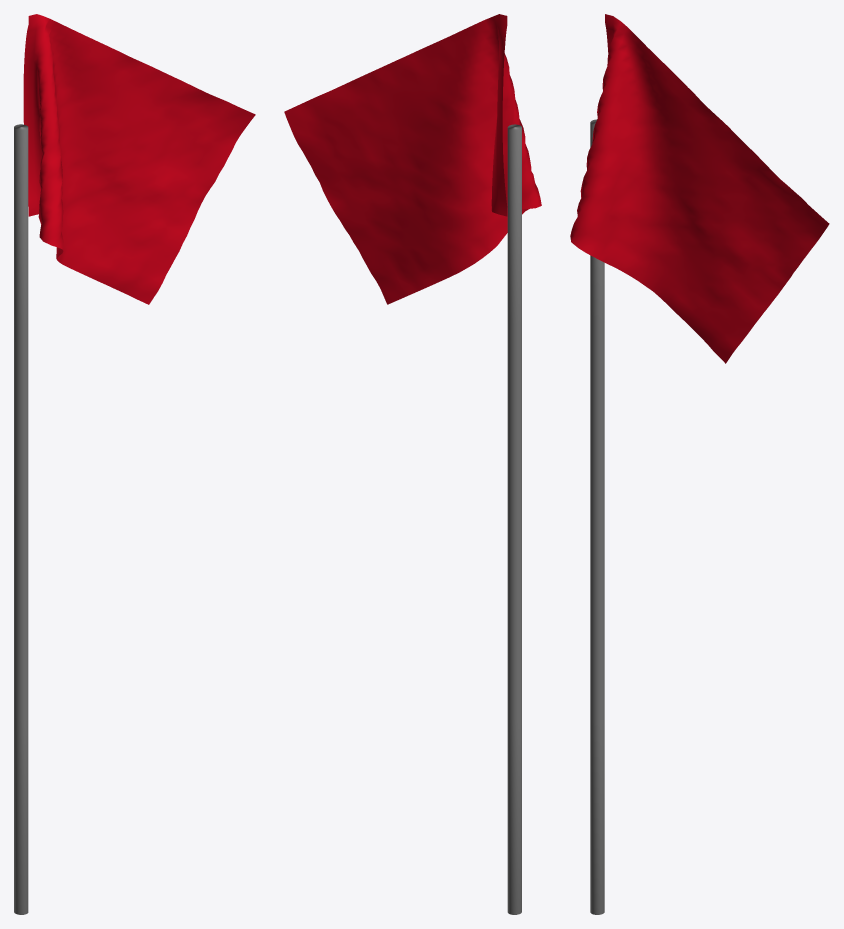
The picture shows the model from 3 angles, left to right: view 1: azimuth 30°, elevation 25°; view 2: azimuth 150°, elevation 25°; view 3: azimuth 330°, elevation 25°; orthographic projection.
Parts seen in each view (by area): view 1: 平面, 円柱; view 2: 平面, 円柱; view 3: 平面, 円柱.
Boxes of the visible parts, bbox=[...] form: 平面: bbox=[23, 14, 255, 304]; 円柱: bbox=[14, 124, 28, 914]; 平面: bbox=[284, 14, 541, 304]; 円柱: bbox=[507, 124, 521, 914]; 平面: bbox=[570, 14, 829, 363]; 円柱: bbox=[590, 119, 604, 914].
Size of the model in its own units: 3.55 by 12.69 by 0.8621.
